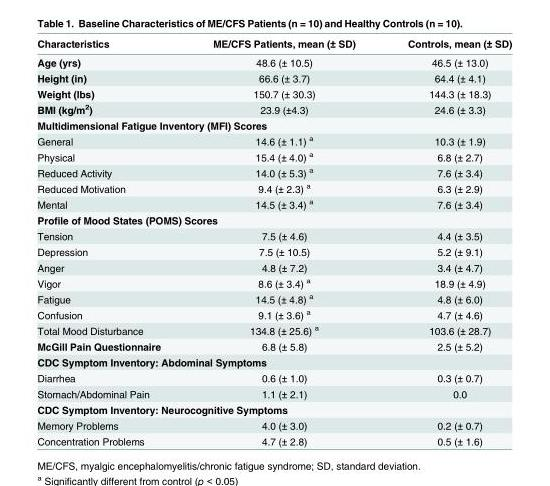table: (36, 37, 511, 446)
table column: (186, 37, 380, 446), (36, 37, 186, 446), (380, 37, 511, 446)
table column header: (36, 37, 511, 52)
table projected row header: (36, 211, 511, 227), (36, 353, 511, 369), (36, 401, 511, 417), (36, 117, 511, 132)
table row: (36, 52, 511, 69), (36, 100, 511, 117), (36, 321, 511, 338), (36, 69, 511, 85), (36, 132, 511, 148), (36, 148, 511, 164), (36, 179, 511, 195), (36, 195, 511, 211), (36, 211, 511, 227), (36, 227, 511, 243), (36, 243, 511, 259), (36, 274, 511, 290), (36, 290, 511, 306), (36, 353, 511, 369), (36, 369, 511, 385), (36, 385, 511, 401), (36, 401, 511, 417), (36, 417, 511, 433), (36, 37, 511, 52), (36, 85, 511, 100), (36, 117, 511, 132), (36, 164, 511, 179), (36, 259, 511, 274), (36, 306, 511, 321), (36, 338, 511, 353), (36, 433, 511, 446)
